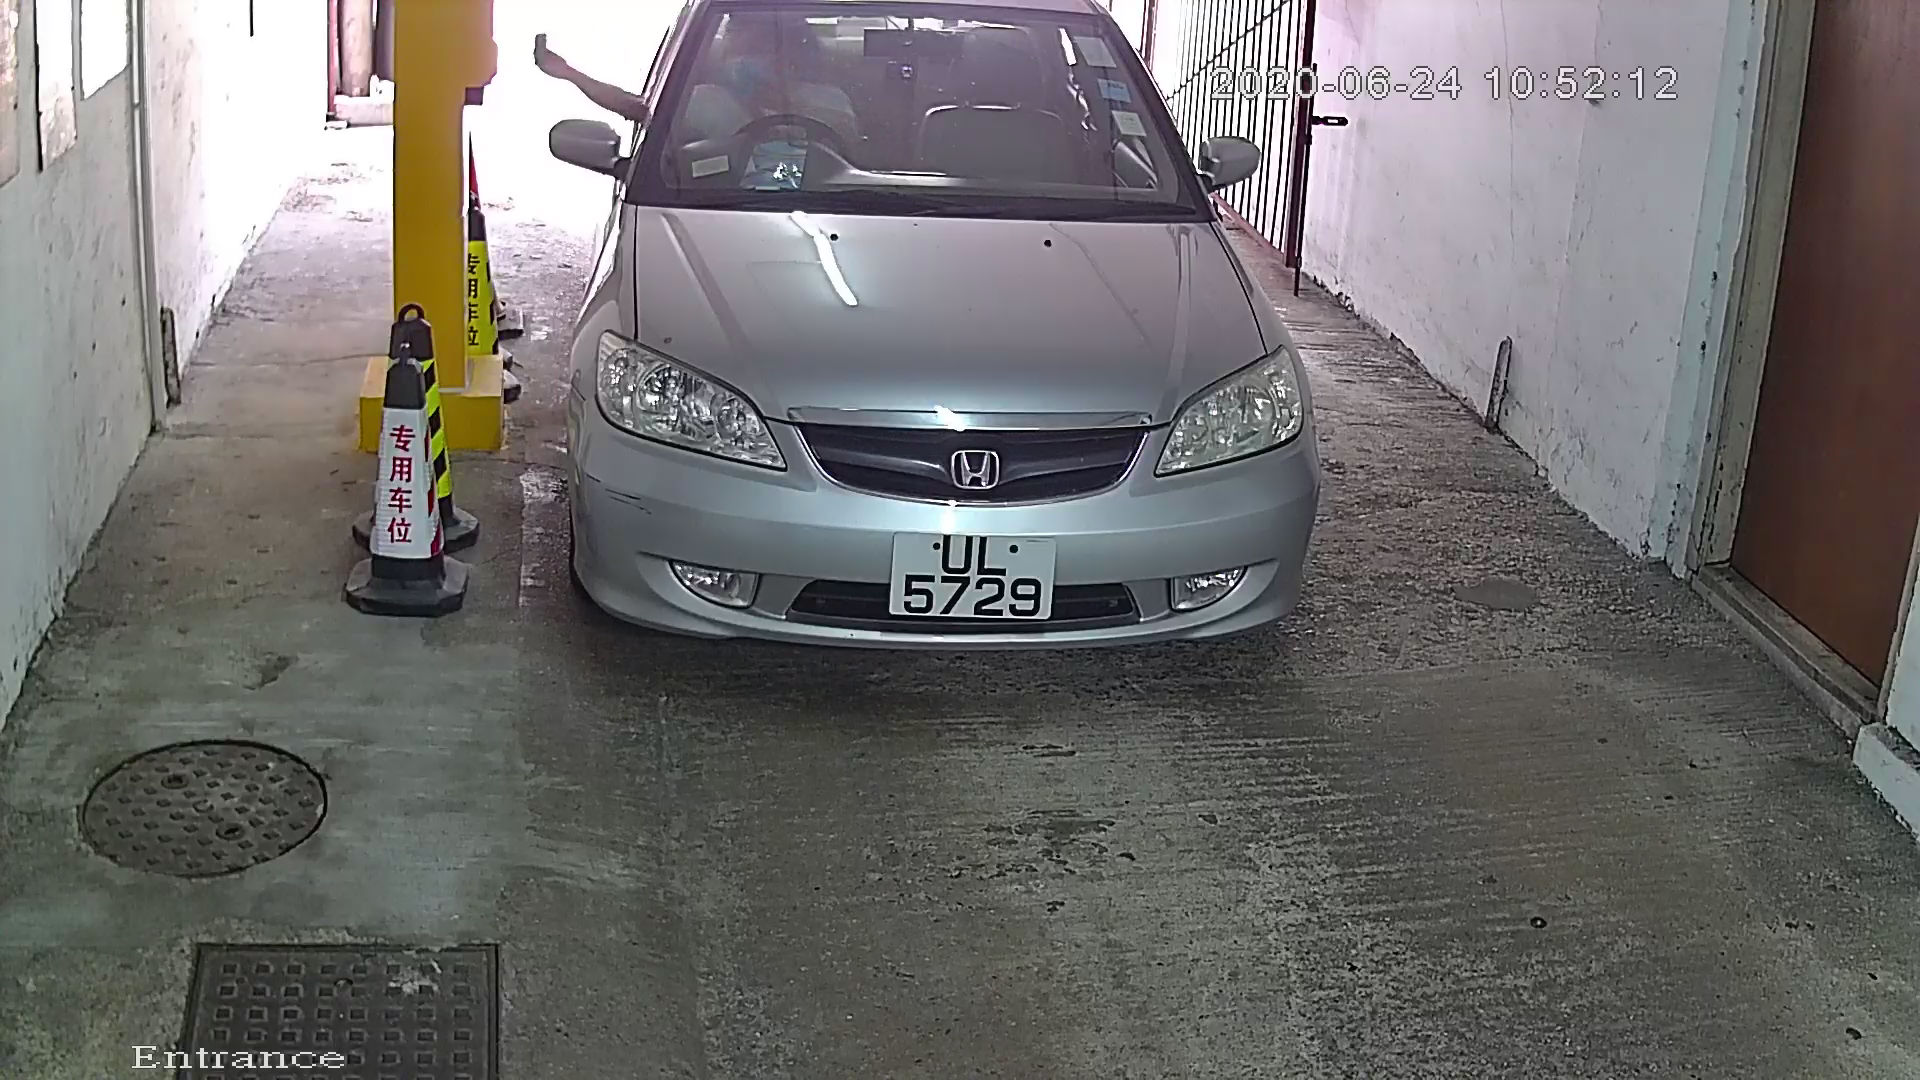Car: (500, 1, 1338, 696)
License Plate: (881, 524, 1065, 639)
